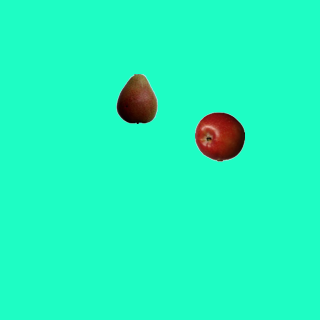Apple Braeburn: (194, 111, 244, 161)
Pear Forelle: (111, 73, 161, 123)
